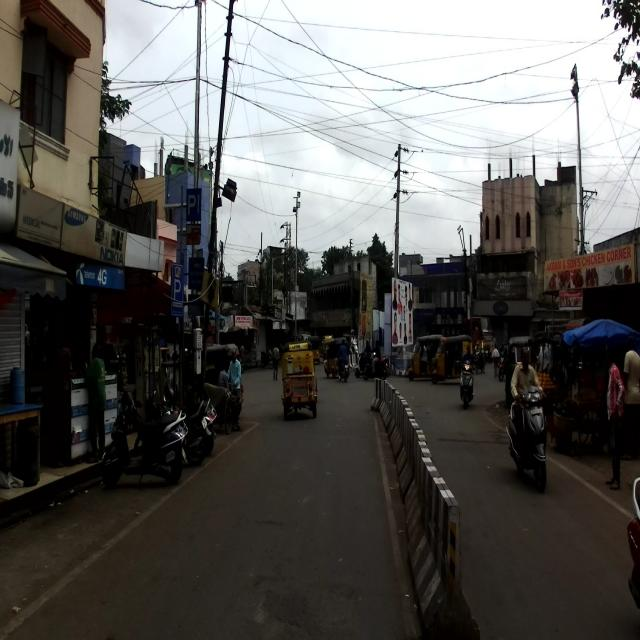motorcycle_Hero: (134, 375, 210, 466)
scooter: (101, 385, 188, 487), (161, 366, 217, 455), (506, 385, 549, 490)
